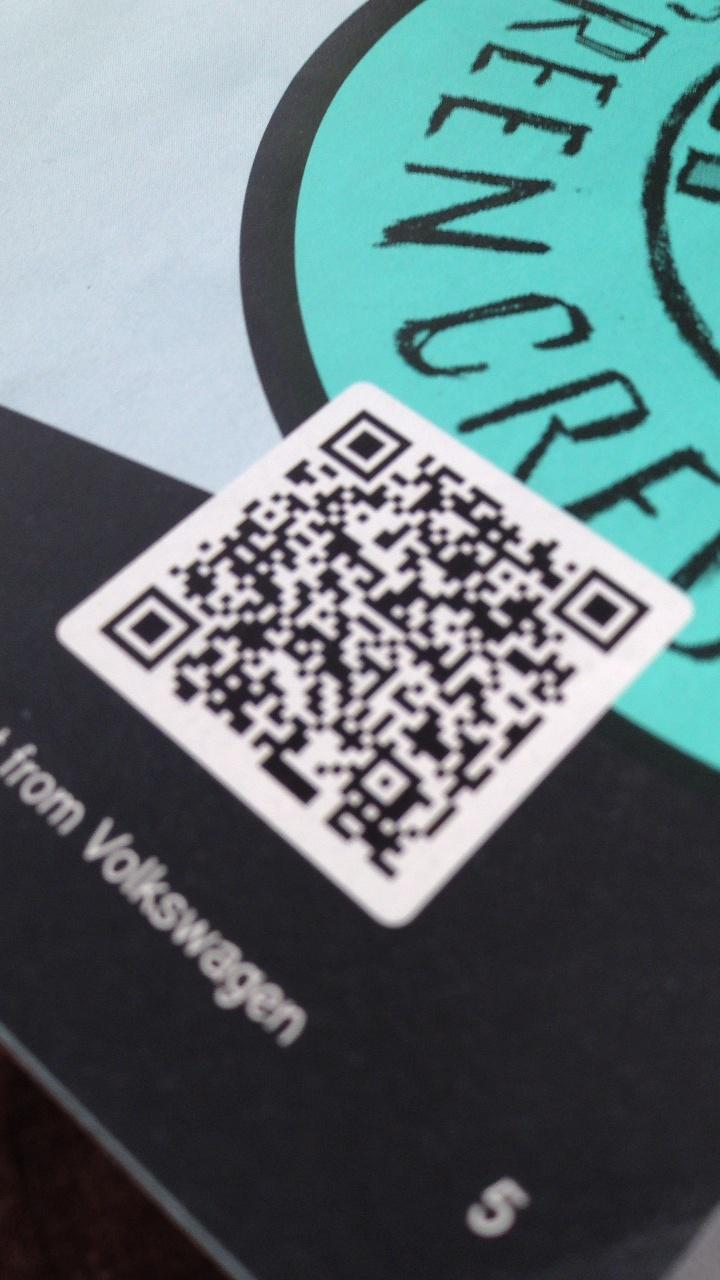Finder pattern: (544, 561, 653, 655), (97, 580, 203, 672), (316, 407, 414, 481)
